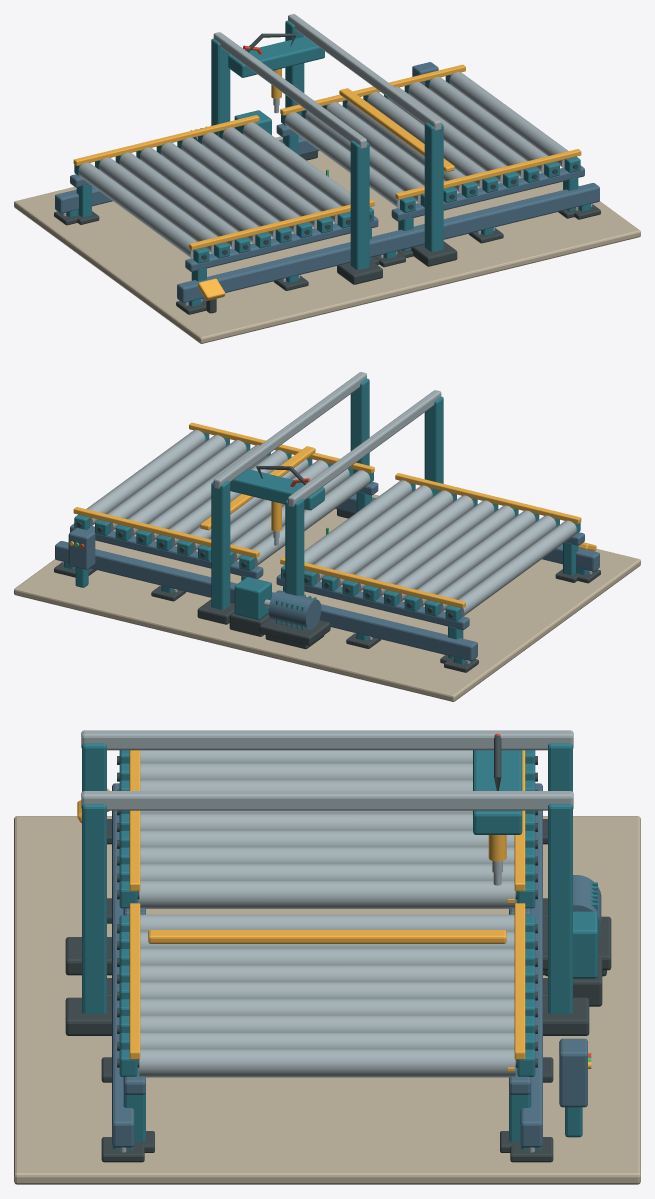
Rendered from CS-PLATE-06-lod1.glb.
The picture shows the model from 3 angles, top to bottom: view 1: azimuth 30°, elevation 25°; view 2: azimuth 150°, elevation 25°; view 3: azimuth 270°, elevation 25°; orthographic projection. The views are drawn at different scales.
Parts seen in each view (by area): view 1: foundation, right_bed_beam, entry_right_pillar, exit_right_pillar, entry_table_idler_0, entry_gantry_rail, exit_gantry_rail, entry_table_idler_2, entry_table_idler_3, entry_table_idler_4, exit_table_idler_6, exit_table_idler_8 (+25 smaller); view 2: foundation, left_bed_beam, exit_left_pillar, entry_table_idler_0, entry_gantry_rail, exit_gantry_rail, entry_table_idler_2, entry_table_idler_3, entry_table_idler_4, exit_table_idler_6, exit_table_idler_8, entry_table_idler_5 (+29 smaller); view 3: foundation, exit_table_idler_8, entry_table_idler_8, entry_gantry_rail, exit_gantry_rail, exit_table_idler_4, exit_table_idler_5, entry_table_idler_7, exit_table_idler_2, exit_table_idler_3, exit_table_idler_6, exit_table_idler_7 (+33 smaller).
Part boxes in pixels (left/top/right/bottom): foundation: left=14, top=136, right=640, bottom=343; right_bed_beam: left=177, top=183, right=599, bottom=302; entry_right_pillar: left=350, top=140, right=369, bottom=269; exit_right_pillar: left=424, top=122, right=443, bottom=251; entry_table_idler_0: left=78, top=162, right=197, bottom=259; entry_gantry_rail: left=213, top=32, right=366, bottom=149; exit_gantry_rail: left=288, top=14, right=441, bottom=130; entry_table_idler_2: left=119, top=152, right=238, bottom=249; entry_table_idler_3: left=140, top=147, right=258, bottom=244; entry_table_idler_4: left=160, top=142, right=279, bottom=239; exit_table_idler_6: left=408, top=82, right=527, bottom=178; exit_table_idler_8: left=449, top=72, right=568, bottom=168; foundation: left=14, top=494, right=640, bottom=701; left_bed_beam: left=55, top=541, right=477, bottom=660; exit_left_pillar: left=211, top=480, right=230, bottom=609; entry_table_idler_0: left=457, top=520, right=576, bottom=617; entry_gantry_rail: left=288, top=390, right=441, bottom=507; exit_gantry_rail: left=213, top=372, right=366, bottom=488; entry_table_idler_2: left=416, top=510, right=535, bottom=607; entry_table_idler_3: left=396, top=505, right=514, bottom=602; entry_table_idler_4: left=375, top=500, right=494, bottom=597; exit_table_idler_6: left=127, top=440, right=246, bottom=536; exit_table_idler_8: left=86, top=430, right=205, bottom=526; entry_table_idler_5: left=355, top=495, right=473, bottom=591; foundation: left=14, top=816, right=640, bottom=1184; exit_table_idler_8: left=139, top=1049, right=515, bottom=1077; entry_table_idler_8: left=139, top=880, right=515, bottom=908; entry_gantry_rail: left=81, top=730, right=573, bottom=750; exit_gantry_rail: left=81, top=791, right=573, bottom=810; exit_table_idler_4: left=140, top=981, right=514, bottom=998; exit_table_idler_5: left=140, top=998, right=514, bottom=1015; entry_table_idler_7: left=140, top=863, right=514, bottom=880; exit_table_idler_2: left=140, top=948, right=514, bottom=964; exit_table_idler_3: left=140, top=965, right=514, bottom=981; exit_table_idler_6: left=140, top=1015, right=514, bottom=1031; exit_table_idler_7: left=140, top=1032, right=514, bottom=1048.
Bounding box in the file's own units: 9.5 × 3.21 × 7.
